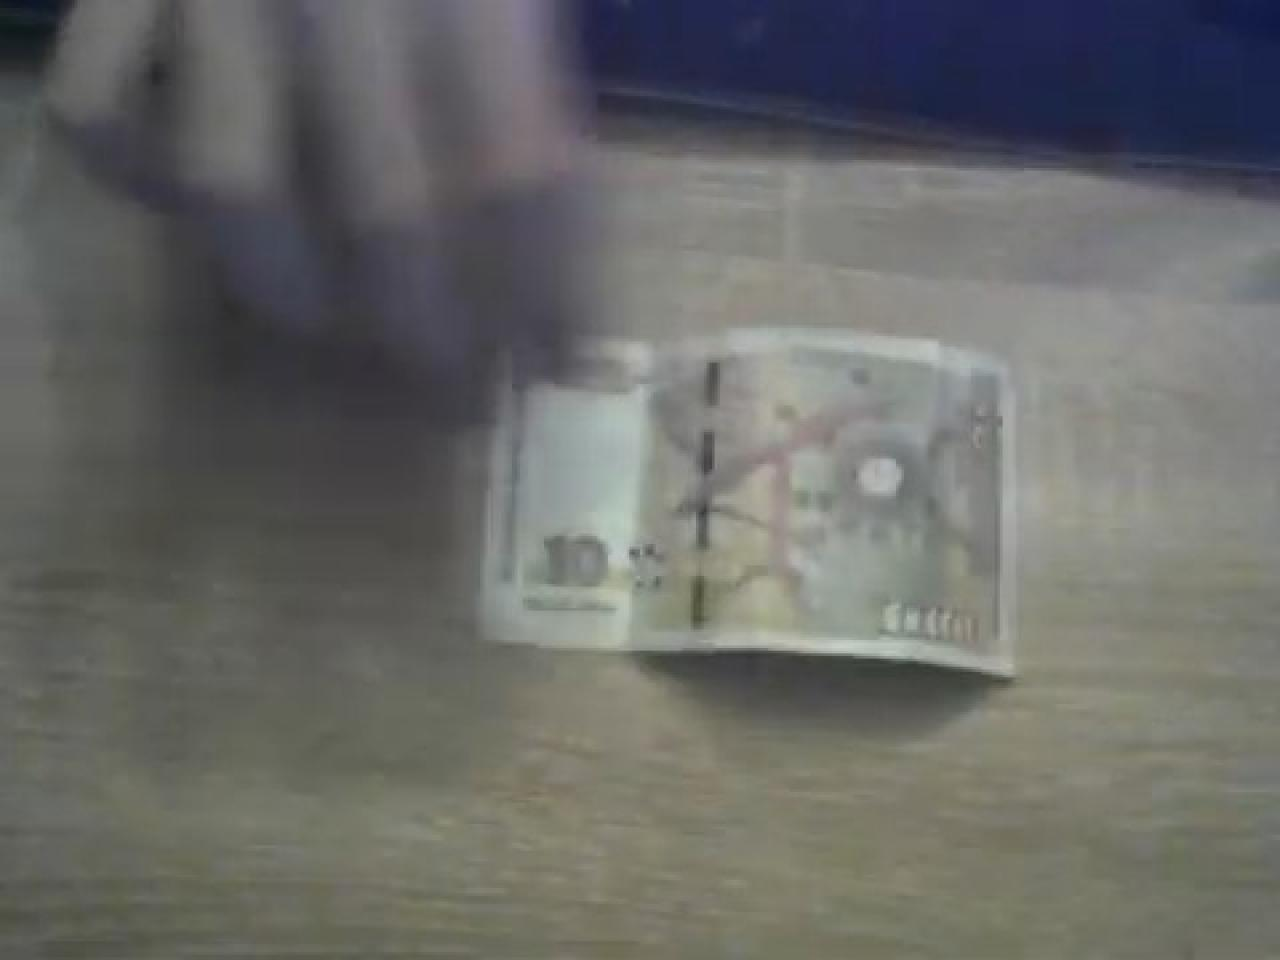10leva: (480, 325, 1029, 680)
